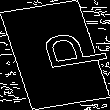P_W: (14, 32, 96, 78)
